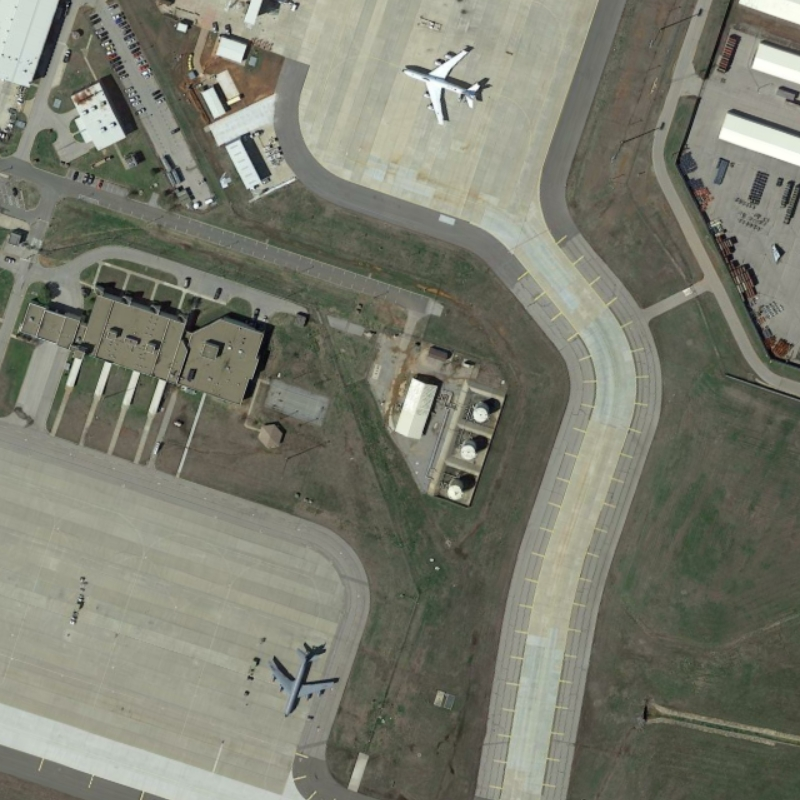A11: (394, 41, 497, 128)
A14: (259, 637, 351, 723)
